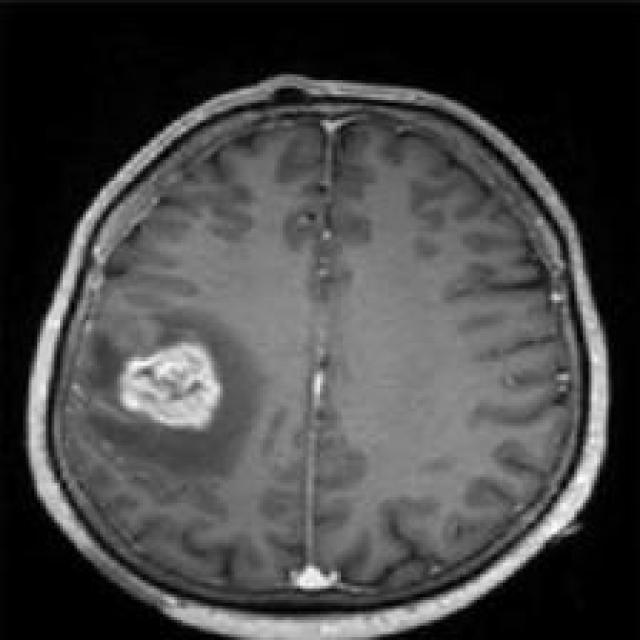glioma_tumor: (66, 302, 277, 499)
